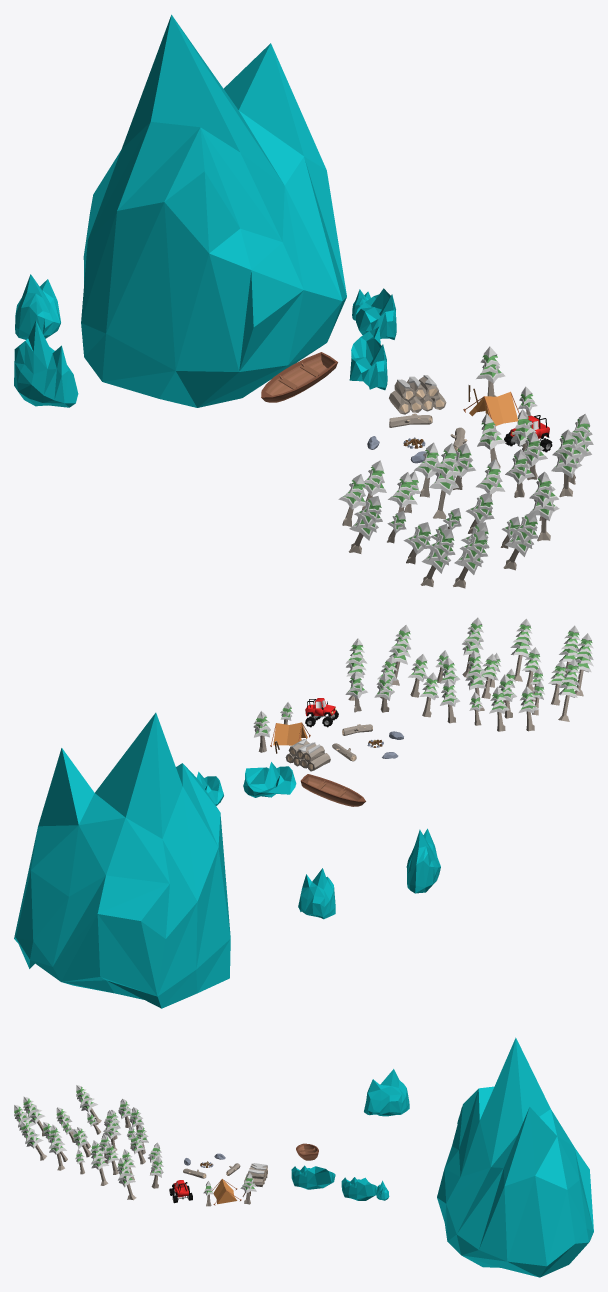
The model's file is LowerLevel.glb.
3 views of the same model, one above another, from view 1: azimuth 30°, elevation 25°; view 2: azimuth 150°, elevation 25°; view 3: azimuth 270°, elevation 25° (orthographic). The views are drawn at different scales.
Visible parts, largest first — view 1: 1222 Iceberg, 1222 Iceberg.005, 1222 Iceberg.004, Boat-ver1, 1222 Iceberg.003, firewoods_01, 1222 Iceberg.002, pine_tall_snowy_01.004, Tent_Cube.001, pine_tall_snowy_01.007, pine_tall_snowy_01.008, pine_tall_snowy_01.010 (+3 smaller); view 2: 1222 Iceberg, 1222 Iceberg.005, 1222 Iceberg.003, 1222 Iceberg.004, Boat-ver1, firewoods_01, Tent_Cube.001, pine_tall_snowy_01.005, pine_tall_snowy_01.010, pine_tall_snowy_01.008, pine_tall_snowy_01.006, pine_tall_snowy_01.004 (+2 smaller); view 3: 1222 Iceberg, 1222 Iceberg.005, 1222 Iceberg.003, 1222 Iceberg.002, Tent_Cube.001, pine_tall_snowy_01.007, pine_tall_snowy_01.008, pine_tall_snowy_01.010, pine_tall_snowy_01.011, pine_tall_snowy_01.005, firewoods_01, pine_tall_snowy_01.006 (+1 smaller).
Part boxes in pixels (x1=…): 1222 Iceberg: x1=81, y1=14, x2=346, y2=407; 1222 Iceberg.005: x1=14, y1=321, x2=78, y2=407; 1222 Iceberg.004: x1=15, y1=274, x2=60, y2=339; Boat-ver1: x1=261, y1=352, x2=337, y2=402; 1222 Iceberg.003: x1=349, y1=326, x2=387, y2=390; firewoods_01: x1=389, y1=375, x2=446, y2=414; 1222 Iceberg.002: x1=355, y1=288, x2=396, y2=339; pine_tall_snowy_01.004: x1=429, y1=443, x2=461, y2=519; Tent_Cube.001: x1=463, y1=391, x2=519, y2=428; pine_tall_snowy_01.007: x1=529, y1=471, x2=559, y2=541; pine_tall_snowy_01.008: x1=551, y1=429, x2=581, y2=497; pine_tall_snowy_01.010: x1=503, y1=512, x2=538, y2=570; 1222 Iceberg: x1=14, y1=712, x2=230, y2=1008; 1222 Iceberg.005: x1=406, y1=828, x2=440, y2=893; 1222 Iceberg.003: x1=243, y1=762, x2=296, y2=797; 1222 Iceberg.004: x1=298, y1=868, x2=335, y2=919; Boat-ver1: x1=300, y1=774, x2=365, y2=806; firewoods_01: x1=285, y1=739, x2=330, y2=771; Tent_Cube.001: x1=270, y1=722, x2=310, y2=746; pine_tall_snowy_01.005: x1=558, y1=659, x2=579, y2=721; pine_tall_snowy_01.010: x1=510, y1=618, x2=532, y2=681; pine_tall_snowy_01.008: x1=389, y1=625, x2=411, y2=685; pine_tall_snowy_01.006: x1=574, y1=633, x2=593, y2=696; pine_tall_snowy_01.004: x1=465, y1=650, x2=487, y2=711; 1222 Iceberg: x1=437, y1=1037, x2=593, y2=1277; 1222 Iceberg.005: x1=364, y1=1069, x2=409, y2=1116; 1222 Iceberg.003: x1=291, y1=1165, x2=335, y2=1189; 1222 Iceberg.002: x1=341, y1=1177, x2=377, y2=1200; Tent_Cube.001: x1=212, y1=1179, x2=241, y2=1205; pine_tall_snowy_01.007: x1=48, y1=1124, x2=66, y2=1170; pine_tall_snowy_01.008: x1=90, y1=1140, x2=109, y2=1185; pine_tall_snowy_01.010: x1=21, y1=1121, x2=46, y2=1160; pine_tall_snowy_01.011: x1=117, y1=1158, x2=136, y2=1200; pine_tall_snowy_01.005: x1=76, y1=1085, x2=101, y2=1124; firewoods_01: x1=244, y1=1163, x2=267, y2=1186; pine_tall_snowy_01.006: x1=23, y1=1096, x2=45, y2=1136.
Size of the model in its own units: 82.98 by 71.81 by 171.
18 materials, 1 textured.
